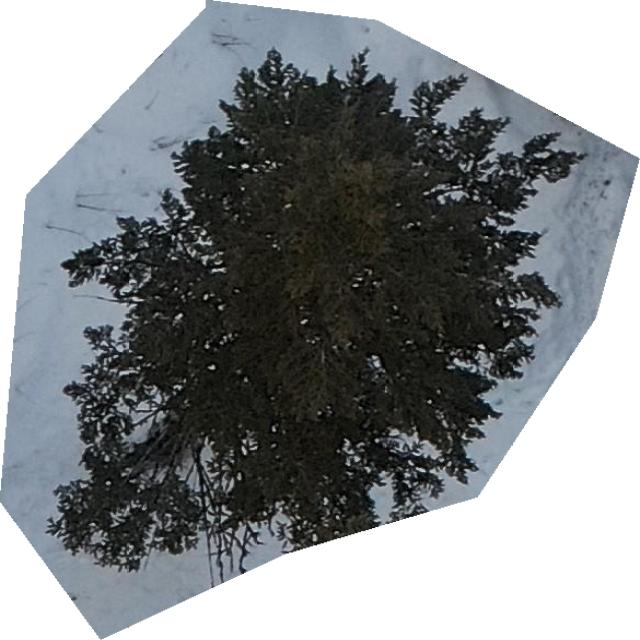spruce: (0, 2, 636, 638)
